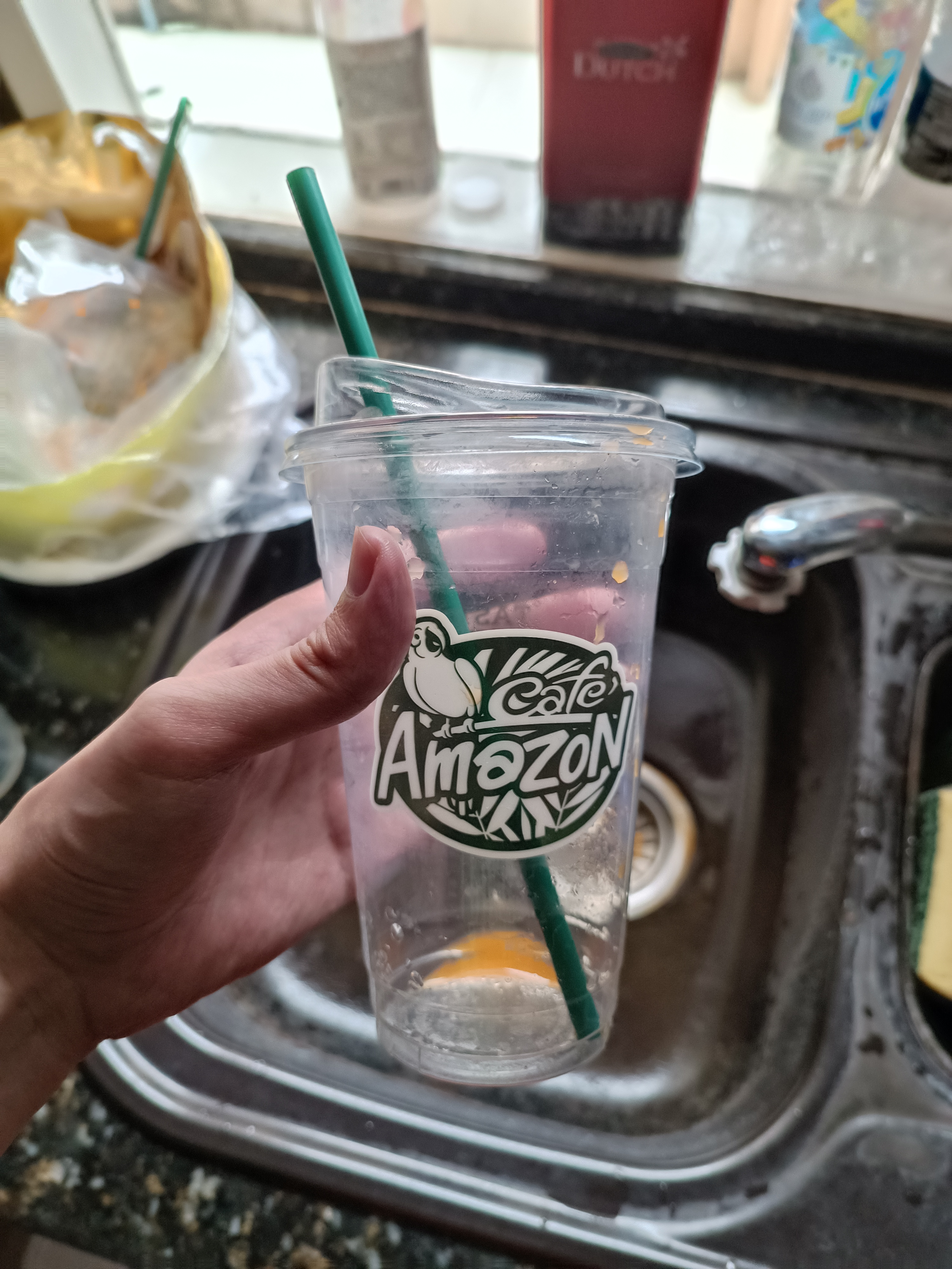plastic: (213, 159, 720, 1088)
